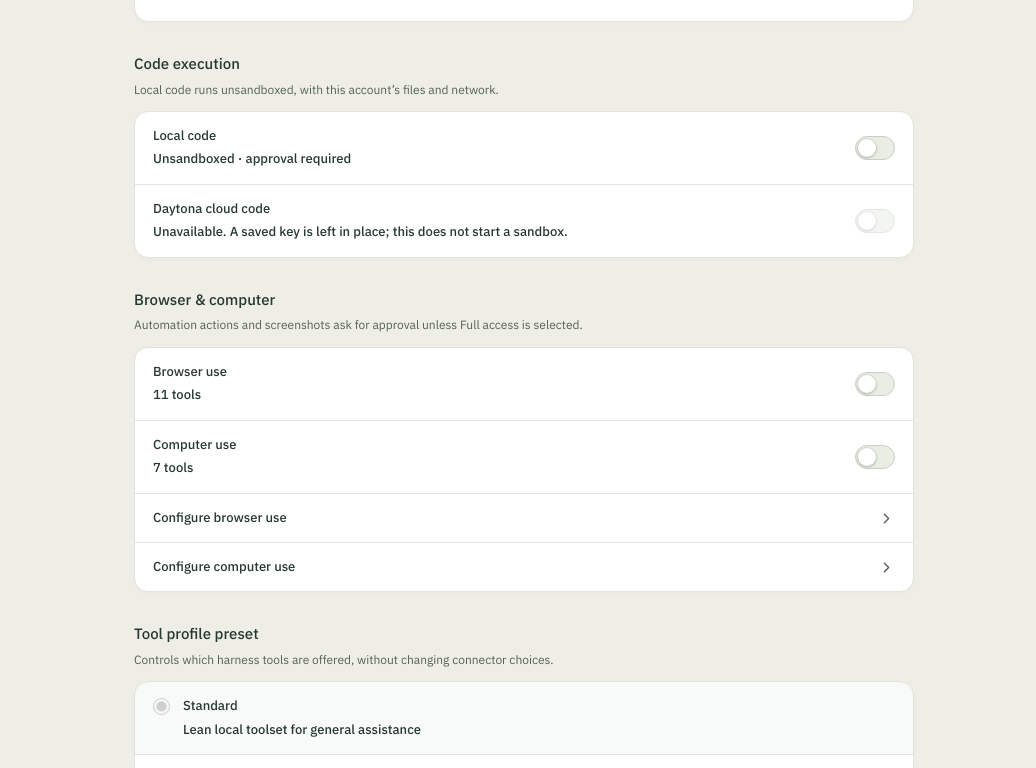
it: tool controls › offers enabled automation as persisted source selections with explicit source counts
(page scrolled)
What coordinates should you click on to do the following:
click the checkbox named "Browser use"
I would click on:
 (875, 384)
Its box is 855,372 -> 895,396.
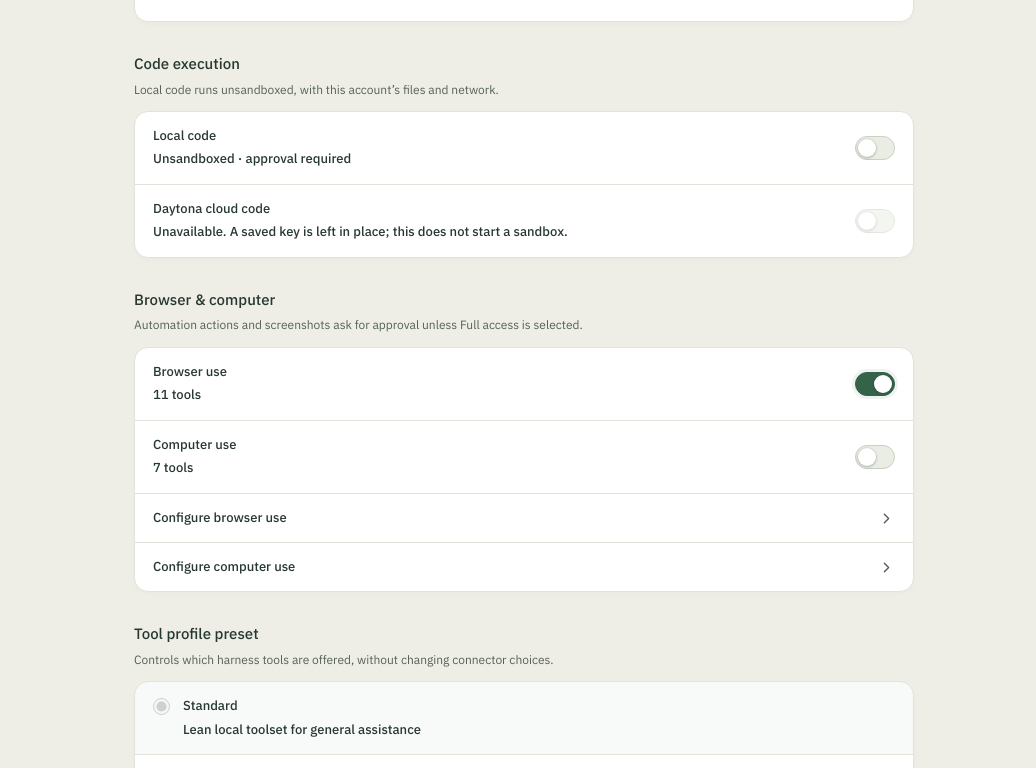
Check: the checkbox named "Browser use" is checked, box 855,372 -> 895,396
What coordinates should you click on to do the following:
click the checkbox named "Computer use"
I would click on:
 (875, 457)
Its box is 855,445 -> 895,469.
(page scrolled)
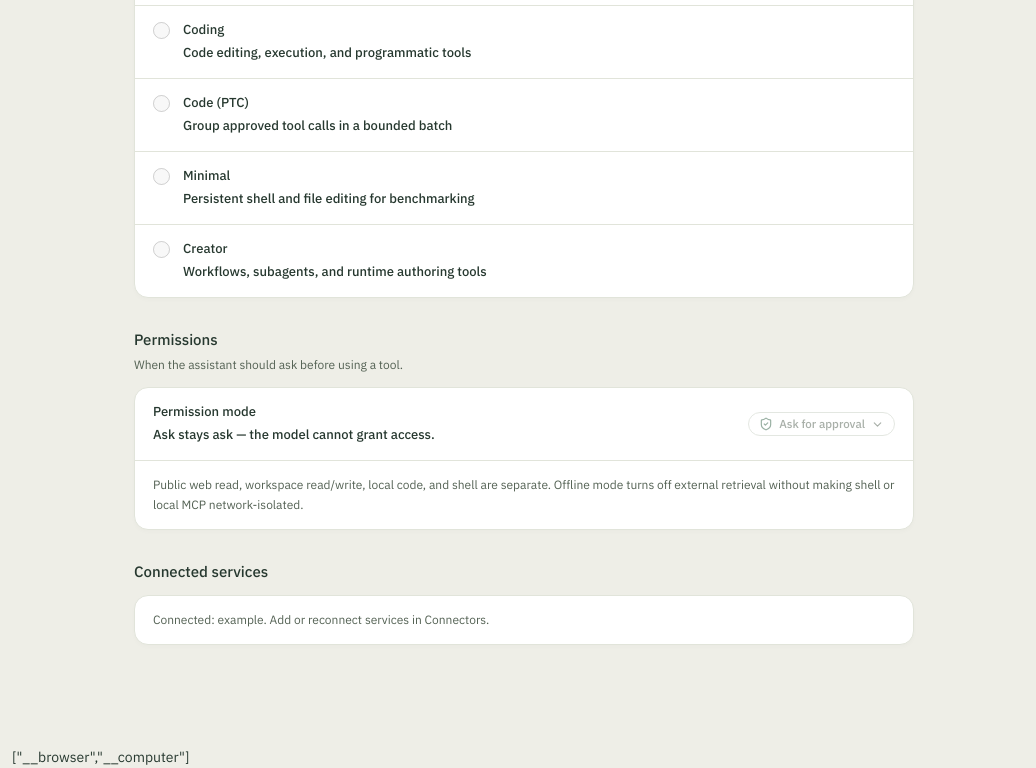
Check: the text with test id "automation-sources" reads "[\"__browser\",\"__computer\"]", box 12,748 -> 189,766
